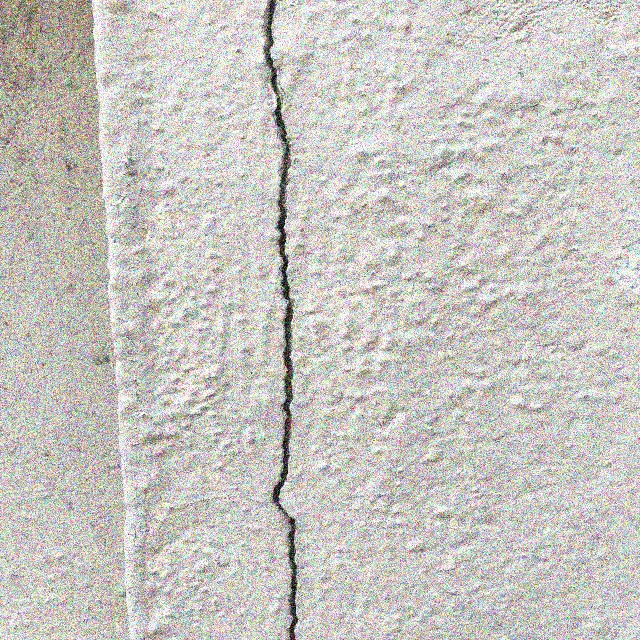SurfaceCrack: (216, 1, 349, 640)
